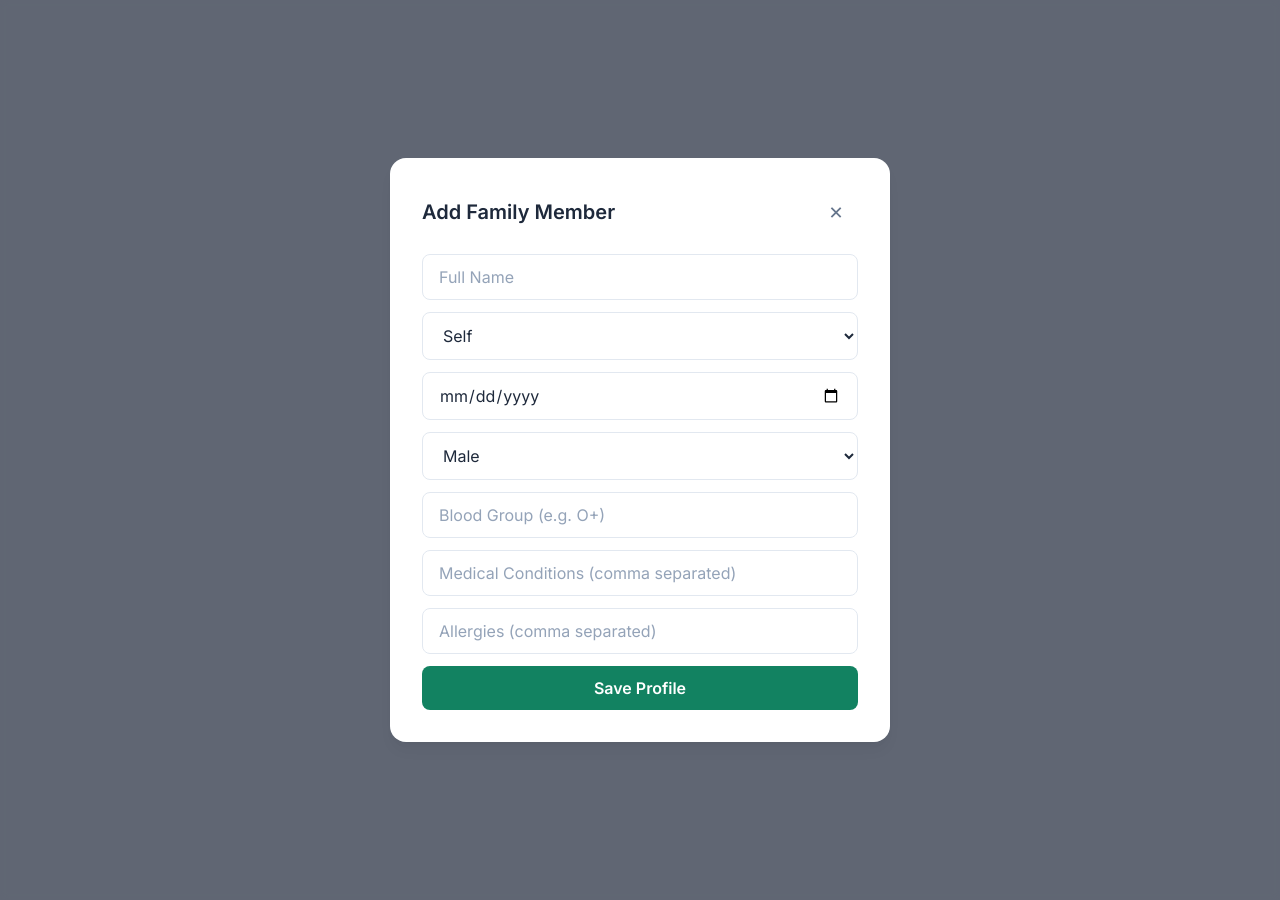
Scenario: Task 12 — FamilySelectorModal ARIA and CSS › shows a validation error when name is shorter than 2 characters
Type "A" into the field with placeholder "Full Name" at (640, 277), box 422,254 -> 858,300
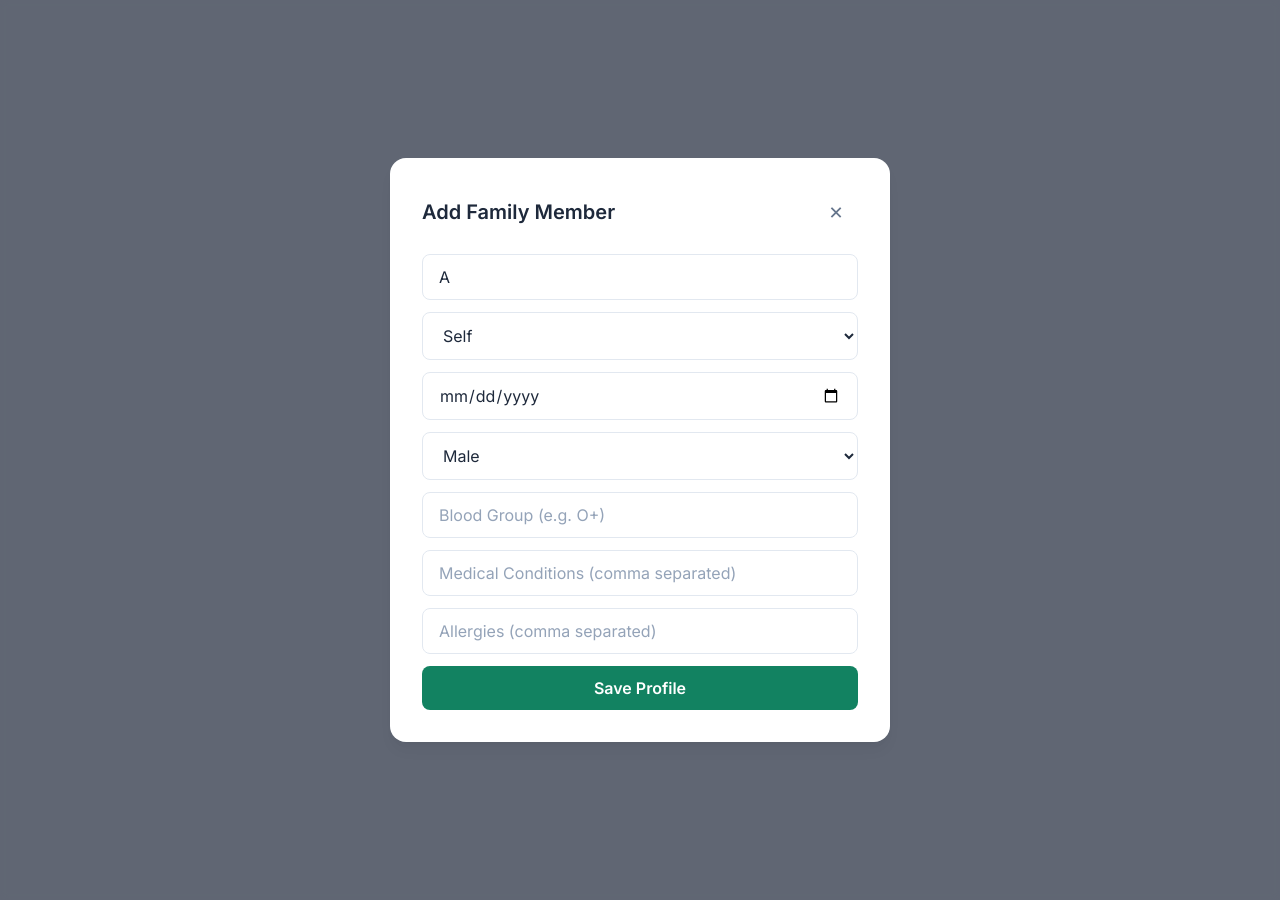
Submit the form, box 422,254 -> 858,710
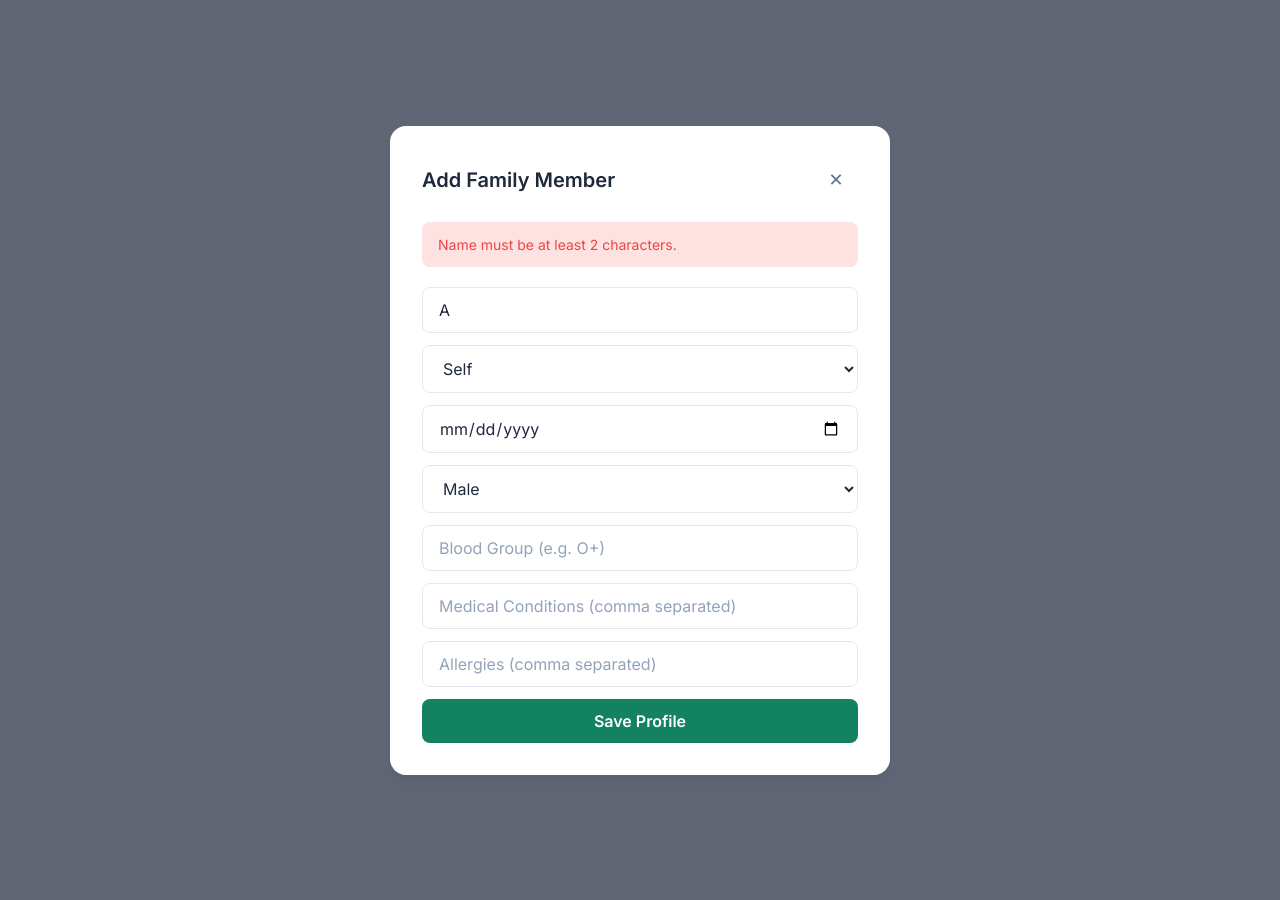
Now the message shows "at least 2 characters", box 438,236 -> 677,252
